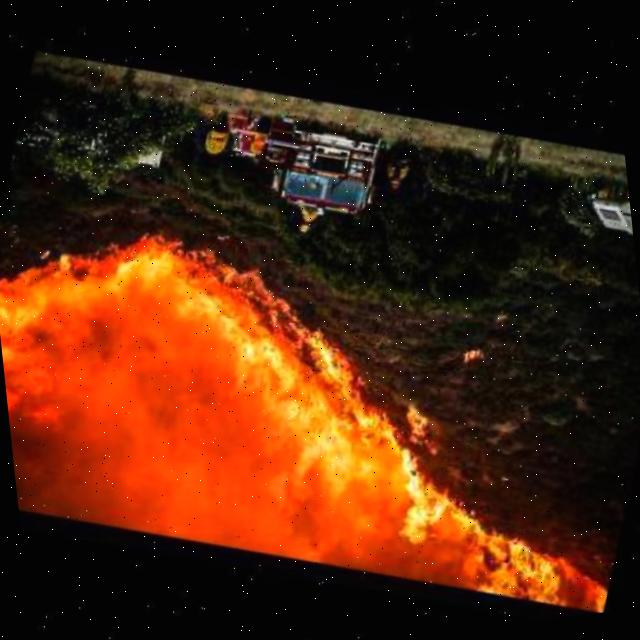fire: (100, 210, 357, 369), (209, 309, 426, 455), (289, 410, 439, 514), (0, 271, 94, 427), (378, 466, 485, 566), (406, 404, 443, 442)
